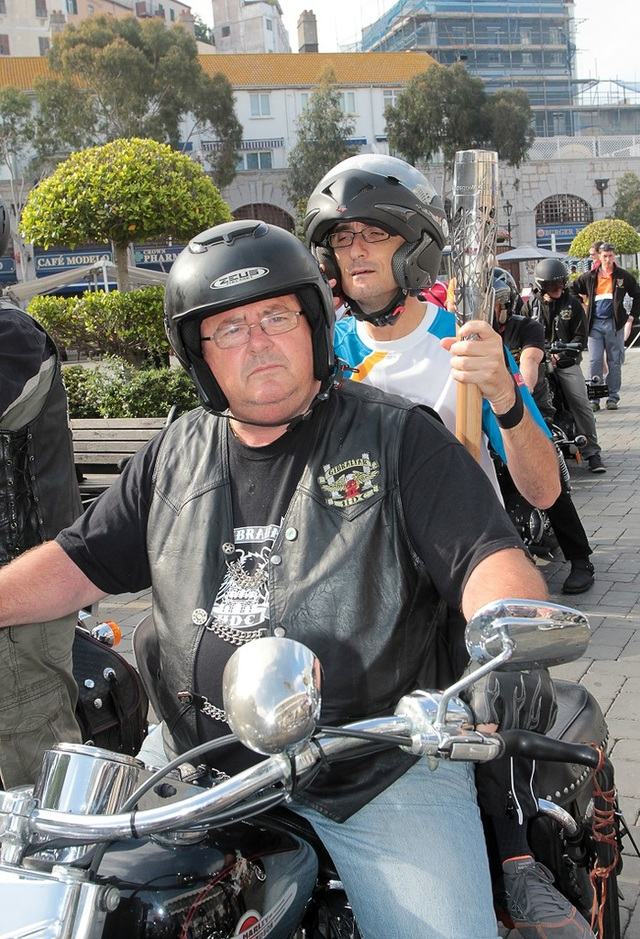helmet: (144, 229, 344, 360), (292, 161, 447, 287)
